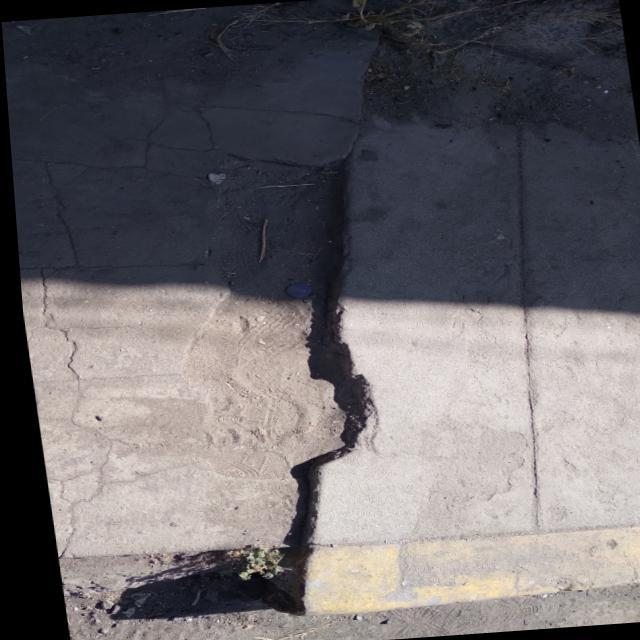hole: (148, 150, 386, 497)
